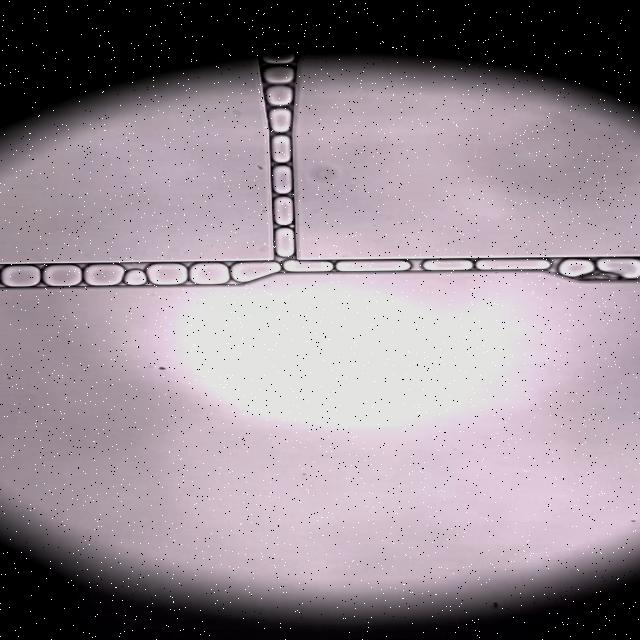L: (558, 259, 594, 278), (273, 197, 293, 225), (262, 66, 293, 84), (268, 109, 291, 133), (275, 228, 294, 257), (422, 260, 472, 271), (271, 136, 291, 163), (283, 261, 332, 272), (273, 166, 292, 194), (266, 86, 292, 106), (262, 49, 295, 64)
S: (231, 263, 281, 282), (84, 264, 124, 286), (597, 259, 640, 279), (1, 266, 41, 287), (42, 265, 82, 286), (147, 264, 187, 285), (190, 263, 229, 284), (336, 261, 410, 272), (476, 259, 550, 270), (125, 269, 146, 285)
